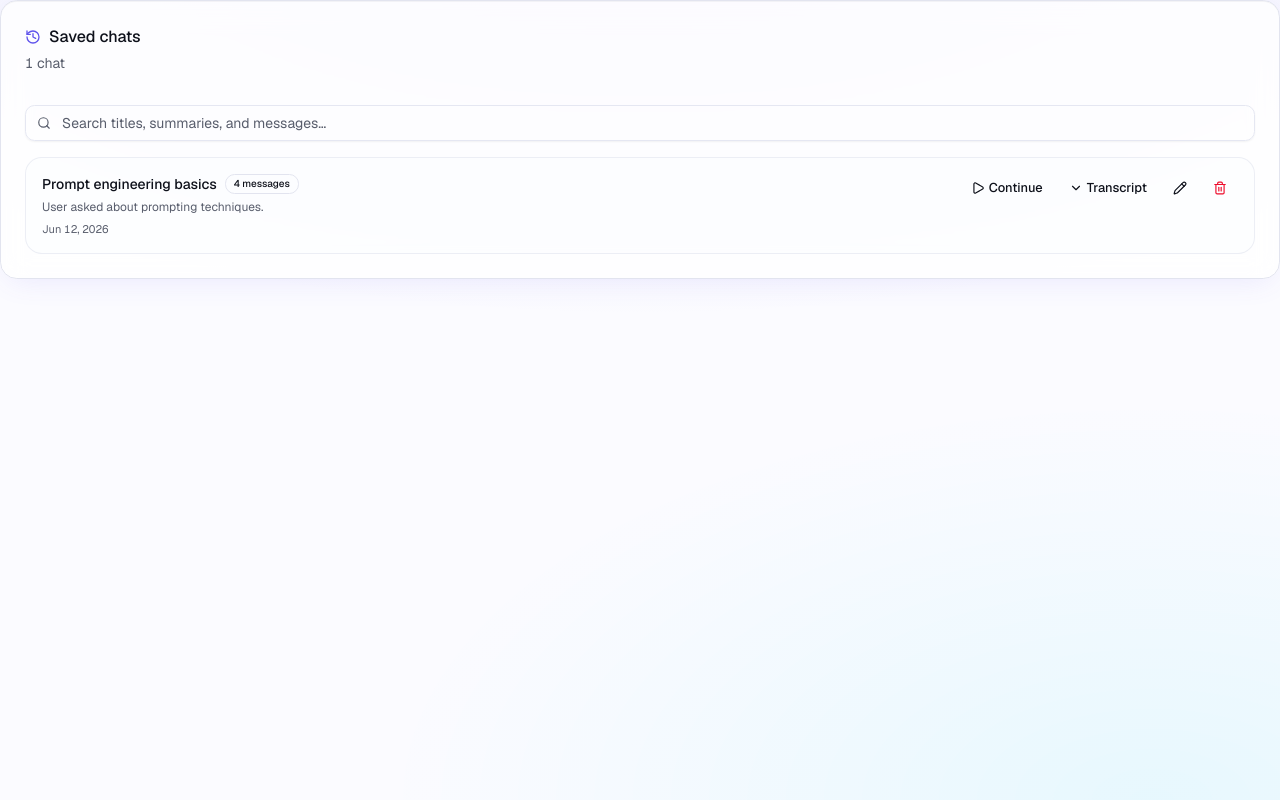
Test: <ChatsList /> › expanding shows a read-only markdown transcript with no input
Expected: the text "Prompt engineering basics" is shown, top-left (42, 174), bottom-right (217, 194)
Step 1. Click the button "Transcript" → (1108, 188), box top-left (1058, 174), bottom-right (1158, 202)
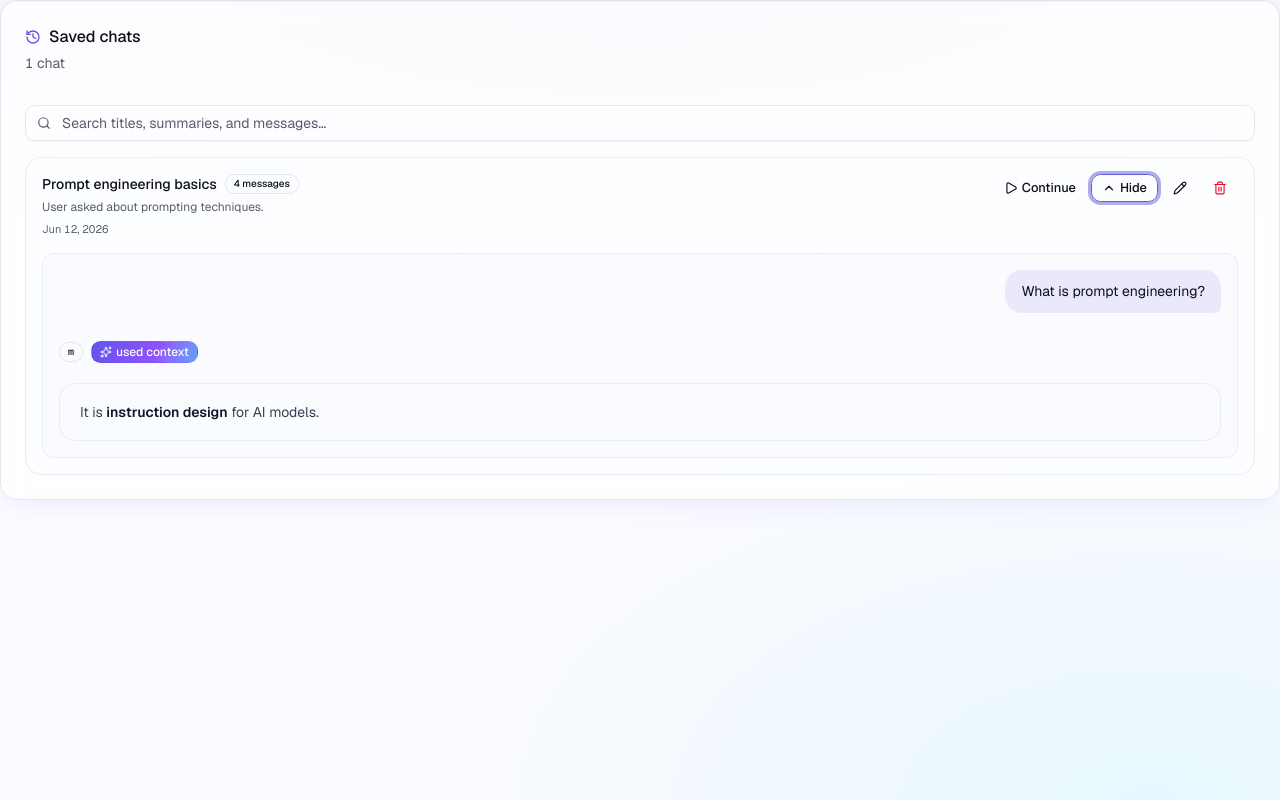
Expected: the text "What is prompt engineering?" is shown, top-left (1005, 270), bottom-right (1221, 313)
Expected: the text "instruction design" is shown, top-left (106, 403), bottom-right (228, 421)
